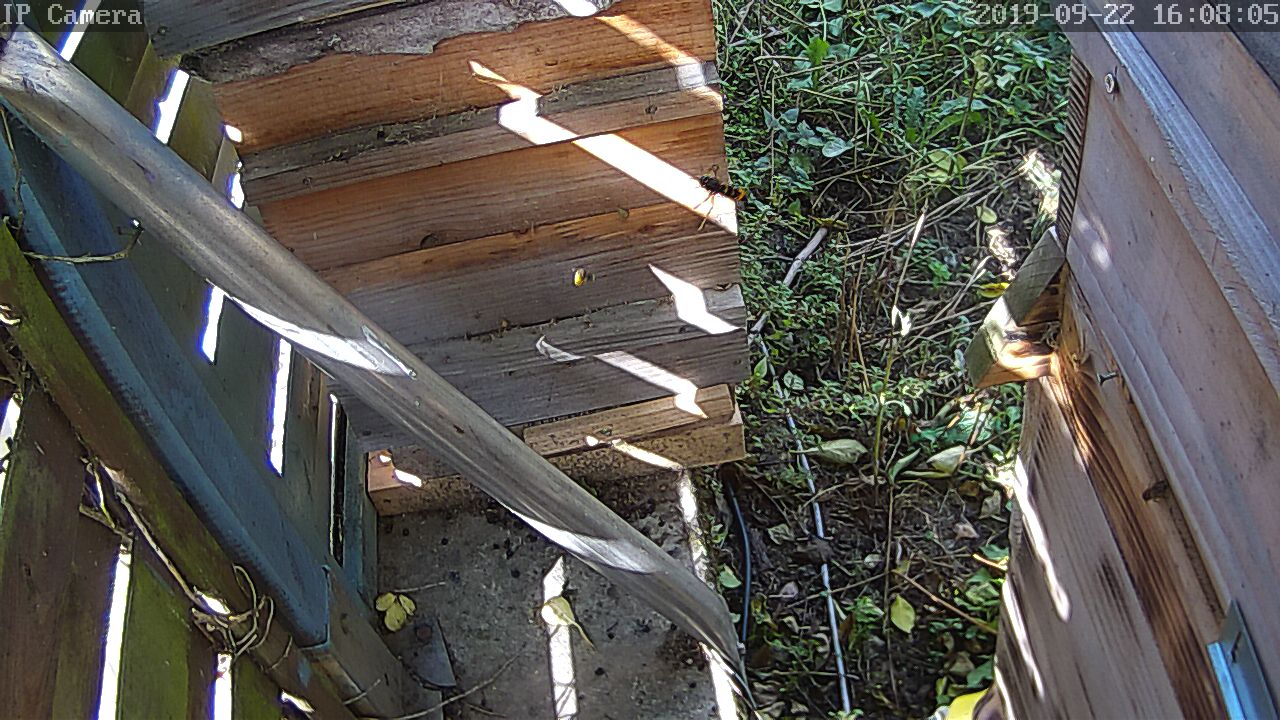bee: (1139, 478, 1175, 508)
hornet: (684, 167, 748, 213)
